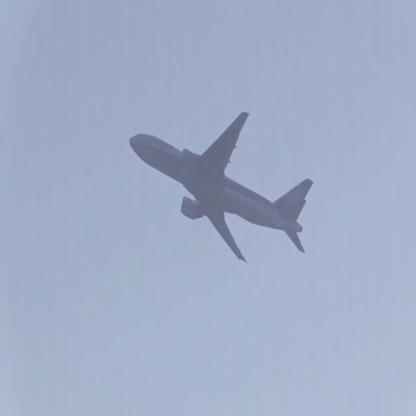plane: (128, 111, 317, 264)
